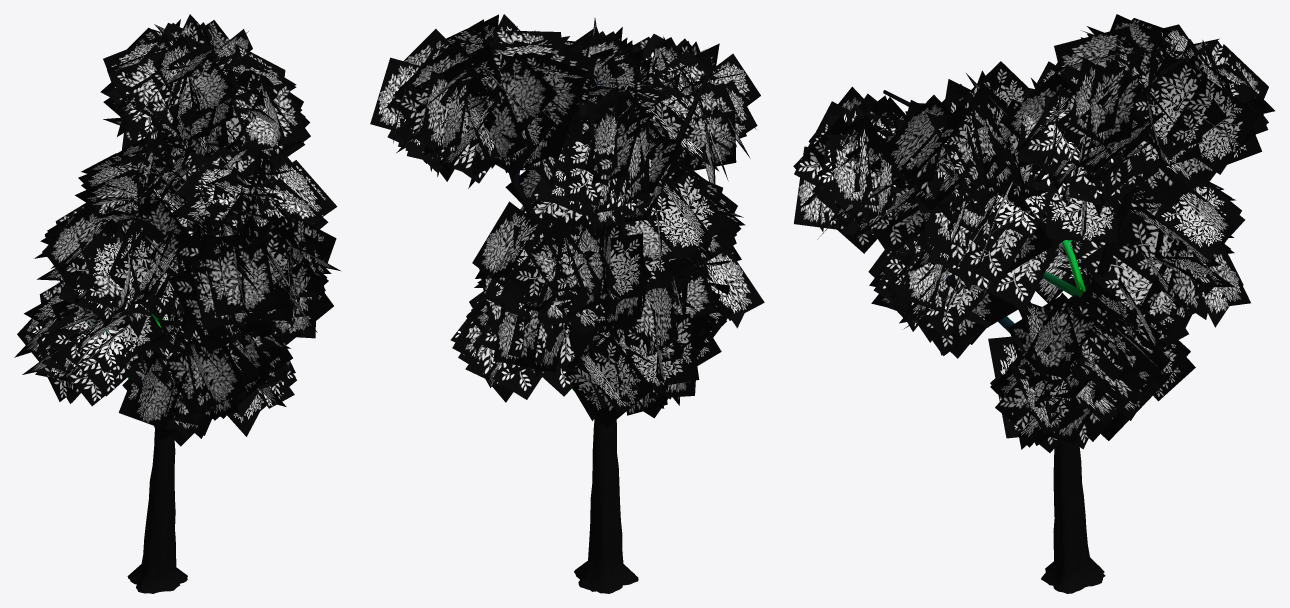
The model's file is treeOne.fbx.
3 renders of one model, left to right at view 1: azimuth 30°, elevation 25°; view 2: azimuth 150°, elevation 25°; view 3: azimuth 270°, elevation 25°, orthographic. The views are drawn at different scales.
Parts seen in each view (by area): view 1: Tree_1, Tree_0; view 2: Tree_1, Tree_0; view 3: Tree_1, Tree_0.
Part boxes in pixels (left/top/right/bottom): Tree_1: left=14, top=14, right=341, bottom=446; Tree_0: left=78, top=230, right=275, bottom=593; Tree_1: left=370, top=14, right=764, bottom=427; Tree_0: left=508, top=64, right=714, bottom=593; Tree_1: left=793, top=14, right=1274, bottom=452; Tree_0: left=871, top=90, right=1135, bottom=593.
Size of the model in its own units: 330 by 597 by 445.
Materials: 1 (1 with a texture image).
